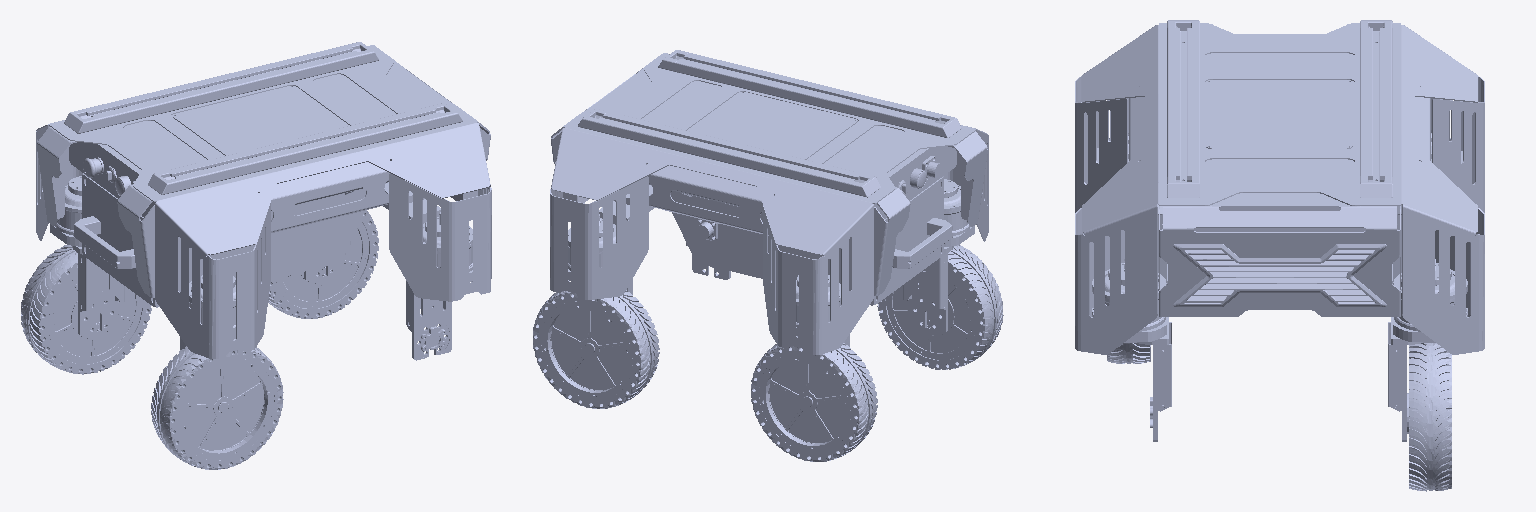
robot.urdf — ranger_mini:
<?xml version="1.0" encoding="utf-8"?>
<!-- This URDF was automatically created by SolidWorks to URDF Exporter! Originally created by [author] ([email redacted]) 
     Commit Version: 1.6.0-1-g15f4949  Build Version: 1.6.7594.29634
     For more information, please see http://wiki.ros.org/sw_urdf_exporter -->
<robot
  name="ranger_mini">
  <link
    name="base_link">
    <inertial>
      <origin
        xyz="0.0562591525803034 5.21904025701792E-05 0.108402855968814"
        rpy="0 0 0" />
      <mass
        value="17.8446713847014" />
      <inertia
        ixx="0.114563750887795"
        ixy="1.00505607229726E-06"
        ixz="-0.00308015585160256"
        iyy="0.25640701981465"
        iyz="-1.26769813175445E-06"
        izz="0.33939943437936" />
    </inertial>
    <visual>
      <origin
        xyz="0 0 0"
        rpy="0 0 0" />
      <geometry>
        <mesh
          filename="package://ranger_mini/meshes/base_link.STL" />
      </geometry>
      <material
        name="">
        <color
          rgba="0.792156862745098 0.819607843137255 0.933333333333333 1" />
      </material>
    </visual>
    <collision>
      <origin
        xyz="0 0 0"
        rpy="0 0 0" />
      <geometry>
        <mesh
          filename="package://ranger_mini/meshes/base_link.STL" />
      </geometry>
    </collision>
  </link>
  <link
    name="front_left_steering_link">
    <inertial>
      <origin
        xyz="-0.0078125 1.2678E-05 0.060941"
        rpy="0 0 0" />
      <mass
        value="0.30421" />
      <inertia
        ixx="0.00022406"
        ixy="-5.3036E-09"
        ixz="-1.2289E-08"
        iyy="0.00021285"
        iyz="-2.5969E-08"
        izz="0.00027948" />
    </inertial>
    <visual>
      <origin
        xyz="0 0 0"
        rpy="0 0 0" />
      <geometry>
        <mesh
          filename="package://ranger_mini/meshes/front_left_steering_link.STL" />
      </geometry>
      <material
        name="">
        <color
          rgba="0.79216 0.81961 0.93333 1" />
      </material>
    </visual>
    <collision>
      <origin
        xyz="0 0 0"
        rpy="0 0 0" />
      <geometry>
        <mesh
          filename="package://ranger_mini/meshes/front_left_steering_link.STL" />
      </geometry>
    </collision>
  </link>
  <joint
    name="fron_left_steering_joint"
    type="continuous">
    <origin
      xyz="0.26366 0.18001 0.0557"
      rpy="3.1416 0 1.5708" />
    <parent
      link="base_link" />
    <child
      link="front_left_steering_link" />
    <axis
      xyz="0 0 1" />
  </joint>
  <link
    name="ffl_wheel_link">
    <inertial>
      <origin
        xyz="-0.0016559 2.498E-05 -1.1185E-05"
        rpy="0 0 0" />
      <mass
        value="1.1363" />
      <inertia
        ixx="0.0049366"
        ixy="-9.2744E-07"
        ixz="2.0492E-07"
        iyy="0.002578"
        iyz="9.052E-08"
        izz="0.0025791" />
    </inertial>
    <visual>
      <origin
        xyz="0 0 0"
        rpy="0 0 0" />
      <geometry>
        <mesh
          filename="package://ranger_mini/meshes/ffl_wheel_link.STL" />
      </geometry>
      <material
        name="">
        <color
          rgba="0.79216 0.81961 0.93333 1" />
      </material>
    </visual>
    <collision>
      <origin
        xyz="0 0 0"
        rpy="0 0 0" />
      <geometry>
        <mesh
          filename="package://ranger_mini/meshes/ffl_wheel_link.STL" />
      </geometry>
    </collision>
  </link>
  <joint
    name="ffl_wheel_joint"
    type="continuous">
    <origin
      xyz="-0.0012329 0.00099823 0.179"
      rpy="0 0 0" />
    <parent
      link="front_left_steering_link" />
    <child
      link="ffl_wheel_link" />
    <axis
      xyz="-1 0 0" />
  </joint>
  <link
    name="front_right_steering_link">
    <inertial>
      <origin
        xyz="0.0078149 5.813E-06 0.060941"
        rpy="0 0 0" />
      <mass
        value="0.30422" />
      <inertia
        ixx="0.00022406"
        ixy="-6.6817E-09"
        ixz="7.4999E-08"
        iyy="0.00021285"
        iyz="-1.9079E-08"
        izz="0.00027948" />
    </inertial>
    <visual>
      <origin
        xyz="0 0 0"
        rpy="0 0 0" />
      <geometry>
        <mesh
          filename="package://ranger_mini/meshes/front_right_steering_link.STL" />
      </geometry>
      <material
        name="">
        <color
          rgba="0.79216 0.81961 0.93333 1" />
      </material>
    </visual>
    <collision>
      <origin
        xyz="0 0 0"
        rpy="0 0 0" />
      <geometry>
        <mesh
          filename="package://ranger_mini/meshes/front_right_steering_link.STL" />
      </geometry>
    </collision>
  </link>
  <joint
    name="front_right_steering_joint"
    type="continuous">
    <origin
      xyz="0.26366 -0.18 0.0557"
      rpy="3.1416 0 1.5708" />
    <parent
      link="base_link" />
    <child
      link="front_right_steering_link" />
    <axis
      xyz="0 0 1" />
  </joint>
  <link
    name="ffr_wheel_ink">
    <inertial>
      <origin
        xyz="0.0016472 -1.6563E-05 2.7857E-05"
        rpy="0 0 0" />
      <mass
        value="1.1364" />
      <inertia
        ixx="0.0049371"
        ixy="-9.2722E-07"
        ixz="-1.9886E-07"
        iyy="0.0025793"
        iyz="-6.7378E-08"
        izz="0.0025805" />
    </inertial>
    <visual>
      <origin
        xyz="0 0 0"
        rpy="0 0 0" />
      <geometry>
        <mesh
          filename="package://ranger_mini/meshes/ffr_wheel_ink.STL" />
      </geometry>
      <material
        name="">
        <color
          rgba="0.79216 0.81961 0.93333 1" />
      </material>
    </visual>
    <collision>
      <origin
        xyz="0 0 0"
        rpy="0 0 0" />
      <geometry>
        <mesh
          filename="package://ranger_mini/meshes/ffr_wheel_ink.STL" />
      </geometry>
    </collision>
  </link>
  <joint
    name="ffr_wheel_joint"
    type="continuous">
    <origin
      xyz="0.0012238 0 0.179"
      rpy="0 0 0" />
    <parent
      link="front_right_steering_link" />
    <child
      link="ffr_wheel_ink" />
    <axis
      xyz="1 0 0" />
  </joint>
  <link
    name="rear_left_steering_link">
    <inertial>
      <origin
        xyz="-0.0079979 9.6737E-06 0.062261"
        rpy="0 0 0" />
      <mass
        value="0.2968" />
      <inertia
        ixx="0.00021788"
        ixy="-5.0547E-08"
        ixz="-7.6105E-09"
        iyy="0.00020665"
        iyz="1.9139E-08"
        izz="0.00026712" />
    </inertial>
    <visual>
      <origin
        xyz="0 0 0"
        rpy="0 0 0" />
      <geometry>
        <mesh
          filename="package://ranger_mini/meshes/rear_left_steering_link.STL" />
      </geometry>
      <material
        name="">
        <color
          rgba="0.79216 0.81961 0.93333 1" />
      </material>
    </visual>
    <collision>
      <origin
        xyz="0 0 0"
        rpy="0 0 0" />
      <geometry>
        <mesh
          filename="package://ranger_mini/meshes/rear_left_steering_link.STL" />
      </geometry>
    </collision>
  </link>
  <joint
    name="rear_left_steering_joint"
    type="continuous">
    <origin
      xyz="-0.094631 0.18001 0.0557"
      rpy="3.1416 0 1.5708" />
    <parent
      link="base_link" />
    <child
      link="rear_left_steering_link" />
    <axis
      xyz="0 0 1" />
  </joint>
  <link
    name="rfl_wheel_link">
    <inertial>
      <origin
        xyz="-0.0016588 2.035E-05 8.7225E-06"
        rpy="0 0 0" />
      <mass
        value="1.1361" />
      <inertia
        ixx="0.0049373"
        ixy="-9.2167E-07"
        ixz="1.9763E-07"
        iyy="0.0025788"
        iyz="3.731E-07"
        izz="0.002579" />
    </inertial>
    <visual>
      <origin
        xyz="0 0 0"
        rpy="0 0 0" />
      <geometry>
        <mesh
          filename="package://ranger_mini/meshes/rfl_wheel_link.STL" />
      </geometry>
      <material
        name="">
        <color
          rgba="0.79216 0.81961 0.93333 1" />
      </material>
    </visual>
    <collision>
      <origin
        xyz="0 0 0"
        rpy="0 0 0" />
      <geometry>
        <mesh
          filename="package://ranger_mini/meshes/rfl_wheel_link.STL" />
      </geometry>
    </collision>
  </link>
  <joint
    name="rfl_wheel_joint"
    type="continuous">
    <origin
      xyz="-0.0012297 0 0.179"
      rpy="0 0 0" />
    <parent
      link="rear_left_steering_link" />
    <child
      link="rfl_wheel_link" />
    <axis
      xyz="-1 0 0" />
  </joint>
  <link
    name="rear_right_steering_link">
    <inertial>
      <origin
        xyz="0.0077929 0.00010875 0.060976"
        rpy="0 0 0" />
      <mass
        value="0.30421" />
      <inertia
        ixx="0.00022406"
        ixy="1.5622E-07"
        ixz="7.4851E-09"
        iyy="0.00021285"
        iyz="1.9677E-08"
        izz="0.00027948" />
    </inertial>
    <visual>
      <origin
        xyz="0 0 0"
        rpy="0 0 0" />
      <geometry>
        <mesh
          filename="package://ranger_mini/meshes/rear_right_steering_link.STL" />
      </geometry>
      <material
        name="">
        <color
          rgba="0.79216 0.81961 0.93333 1" />
      </material>
    </visual>
    <collision>
      <origin
        xyz="0 0 0"
        rpy="0 0 0" />
      <geometry>
        <mesh
          filename="package://ranger_mini/meshes/rear_right_steering_link.STL" />
      </geometry>
    </collision>
  </link>
  <joint
    name="rear_right_steering_joint"
    type="continuous">
    <origin
      xyz="-0.09463 -0.17999 0.0557"
      rpy="3.1416 0 1.5708" />
    <parent
      link="base_link" />
    <child
      link="rear_right_steering_link" />
    <axis
      xyz="0 0 1" />
  </joint>
  <link
    name="rfr_wheel_link">
    <inertial>
      <origin
        xyz="0.0016568 3.1298E-06 9.7006E-06"
        rpy="0 0 0" />
      <mass
        value="1.1361" />
      <inertia
        ixx="0.0049373"
        ixy="3.3232E-05"
        ixz="-1.942E-07"
        iyy="0.0025802"
        iyz="-1.2121E-07"
        izz="0.0025792" />
    </inertial>
    <visual>
      <origin
        xyz="0 0 0"
        rpy="0 0 0" />
      <geometry>
        <mesh
          filename="package://ranger_mini/meshes/rfr_wheel_link.STL" />
      </geometry>
      <material
        name="">
        <color
          rgba="0.79216 0.81961 0.93333 1" />
      </material>
    </visual>
    <collision>
      <origin
        xyz="0 0 0"
        rpy="0 0 0" />
      <geometry>
        <mesh
          filename="package://ranger_mini/meshes/rfr_wheel_link.STL" />
      </geometry>
    </collision>
  </link>
  <joint
    name="rfr_wheel_joint"
    type="continuous">
    <origin
      xyz="0.0012149 0 0.179"
      rpy="0 0 0" />
    <parent
      link="rear_right_steering_link" />
    <child
      link="rfr_wheel_link" />
    <axis
      xyz="0.99989 0.01451 0" />
  </joint>
</robot>

--- What the picture shows (computed from the rendered views, not written in the file) ---
The picture shows the robot from 3 angles, left to right: view 1: azimuth 30°, elevation 25°; view 2: azimuth 150°, elevation 25°; view 3: azimuth 270°, elevation 25°; orthographic projection.
Model ranger_mini with 9 links and 8 joints (8 continuous), rooted at base_link, posed every joint at zero.
Links seen in each view (by area): view 1: base_link, rfr_wheel_link, rfl_wheel_link, ffl_wheel_link, rear_left_steering_link, front_right_steering_link; view 2: base_link, ffl_wheel_link, rfl_wheel_link, rfr_wheel_link, rear_right_steering_link; view 3: base_link, ffl_wheel_link, front_right_steering_link, front_left_steering_link, rfr_wheel_link.
Link boxes in pixels (x1,y1,x2,y2): base_link: (36, 42, 491, 358); rfr_wheel_link: (151, 339, 283, 469); rfl_wheel_link: (21, 245, 151, 374); ffl_wheel_link: (268, 210, 378, 318); rear_left_steering_link: (50, 173, 124, 335); front_right_steering_link: (406, 212, 472, 360); base_link: (550, 50, 988, 354); ffl_wheel_link: (533, 290, 659, 408); rfl_wheel_link: (751, 336, 877, 461); rfr_wheel_link: (877, 245, 1003, 369); rear_right_steering_link: (903, 176, 974, 332); base_link: (1075, 20, 1484, 354); ffl_wheel_link: (1407, 343, 1451, 491); front_right_steering_link: (1092, 258, 1171, 441); front_left_steering_link: (1388, 259, 1467, 441); rfr_wheel_link: (1107, 343, 1150, 363).
Bounding box of the posed robot: 0.5573 × 0.491 × 0.4193 m (x, y, z).
8 mesh visuals loaded from 9 distinct referenced files (8 binary STL); not drawn: 1 (reference not matched to a file when rendering).